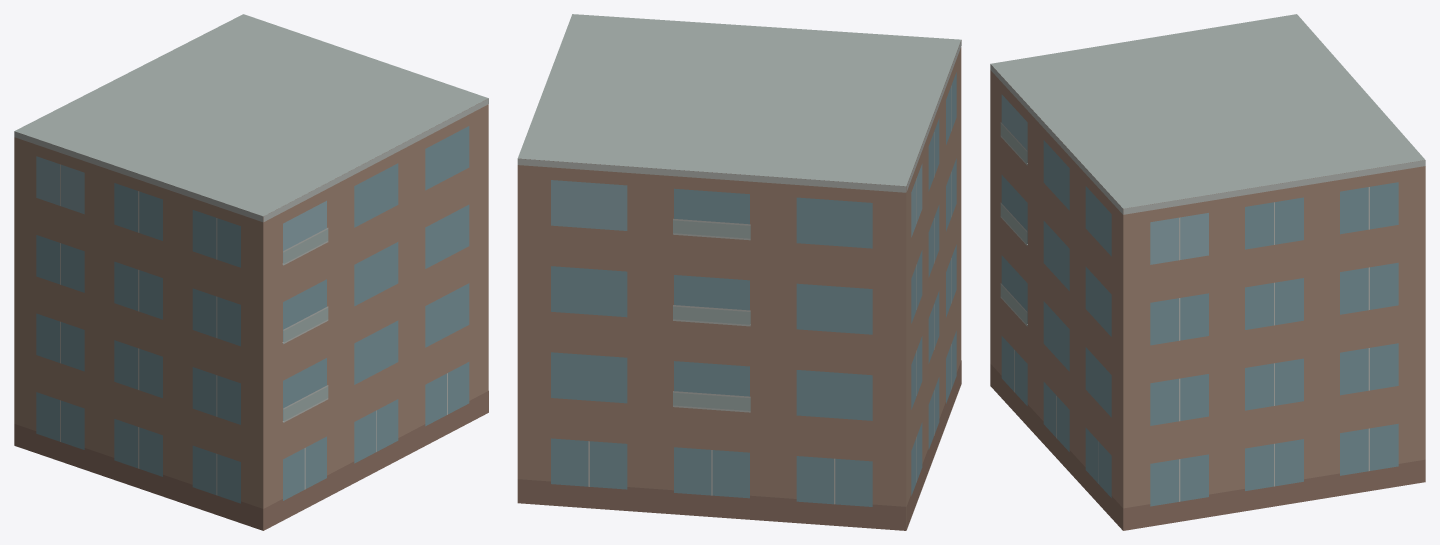
Rendered from survey-upis-32863603.glb.
The picture shows the model from 3 angles, left to right: view 1: azimuth 30°, elevation 25°; view 2: azimuth 150°, elevation 25°; view 3: azimuth 270°, elevation 25°; orthographic projection. The views are drawn at different scales.
Visible parts, largest first — view 1: survey-upis-32863603.tmp; view 2: survey-upis-32863603.tmp; view 3: survey-upis-32863603.tmp.
Boxes of the visible parts, x1,y1,x2,y2 form: survey-upis-32863603.tmp: (14,14,488,530); survey-upis-32863603.tmp: (517,14,961,530); survey-upis-32863603.tmp: (990,14,1425,530).
Bounding box in the file's own units: 16.74 × 12.9 × 15.8.
